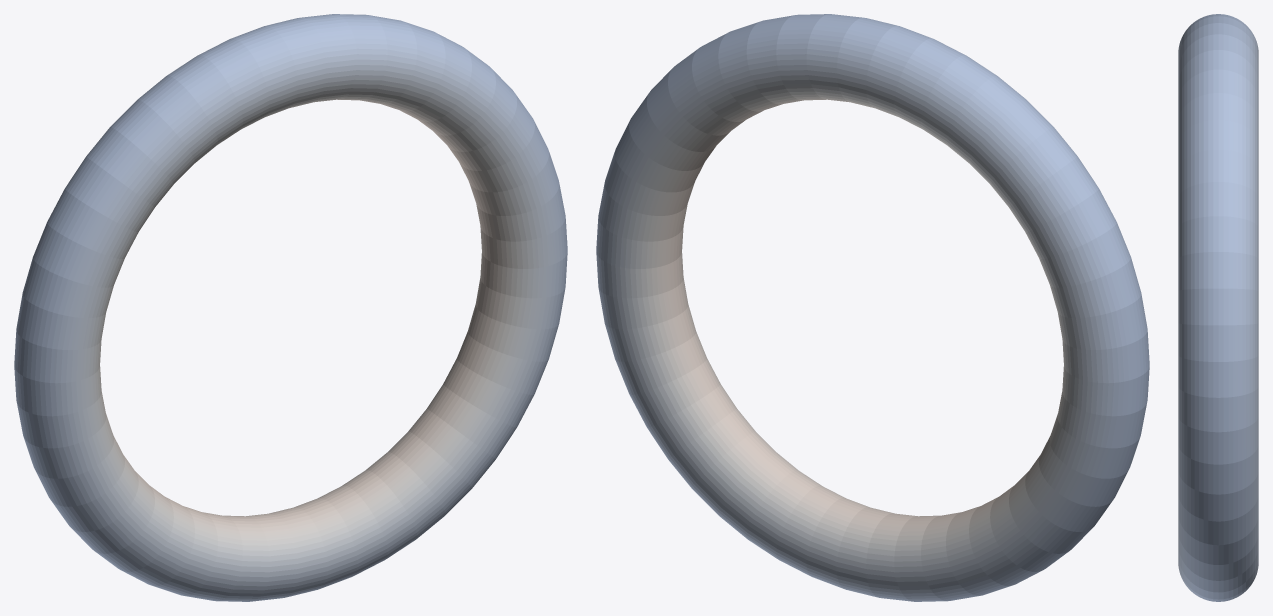
3 views of the same model, side by side, from view 1: azimuth 30°, elevation 25°; view 2: azimuth 150°, elevation 25°; view 3: azimuth 270°, elevation 25° (orthographic). The views are drawn at different scales.
Visible parts, largest first — view 1: world; view 2: world; view 3: world.
Part boxes in pixels (box(x1,y1,x2,y2)): world: box(14, 14, 567, 601); world: box(596, 14, 1149, 601); world: box(1178, 14, 1258, 601).
Bounding box in the file's own units: 30.13 × 30.07 × 4.13.
